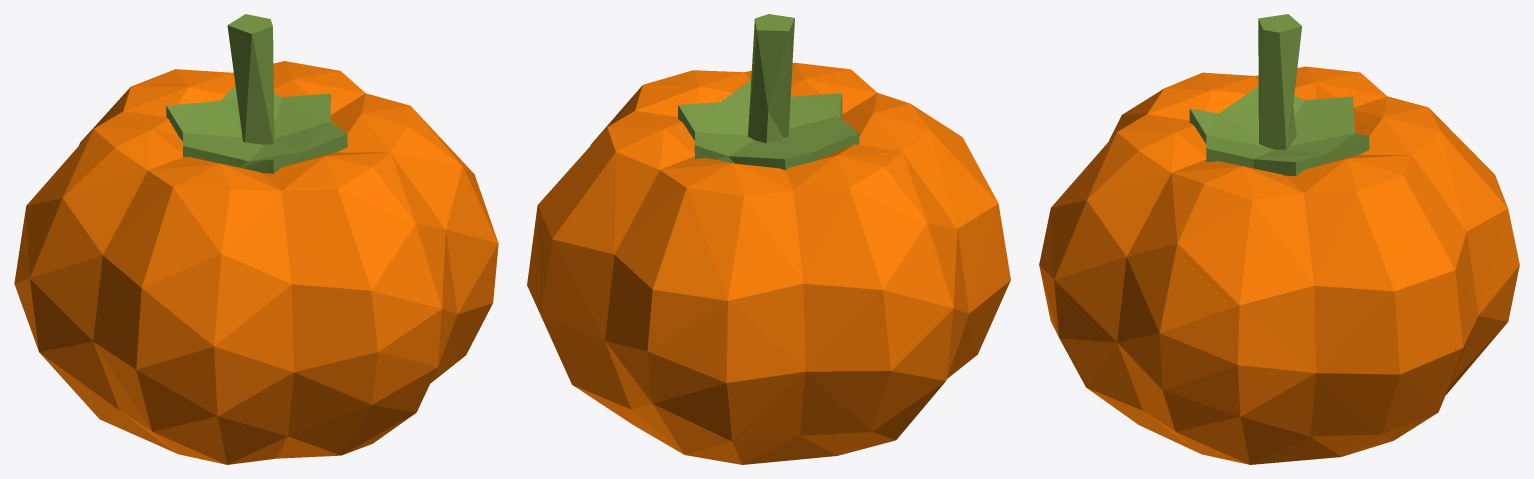
File: Pumpkin_01.fbx
3 renders of one model, left to right at view 1: azimuth 30°, elevation 25°; view 2: azimuth 150°, elevation 25°; view 3: azimuth 270°, elevation 25°, orthographic.
Parts seen in each view (by area): view 1: Pumpkin_01_LOD0; view 2: Pumpkin_01_LOD0; view 3: Pumpkin_01_LOD0.
Part boxes in pixels (left/top/right/bottom): Pumpkin_01_LOD0: left=14, top=14, right=498, bottom=464; Pumpkin_01_LOD0: left=527, top=14, right=1010, bottom=464; Pumpkin_01_LOD0: left=1039, top=14, right=1519, bottom=464.
Size of what is drawn, in the model's own units: 45.27 by 41.34 by 46.03.
